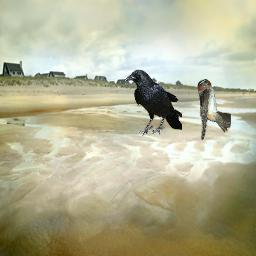Crow: (124, 69, 182, 136)
Swallow: (197, 79, 231, 141)
